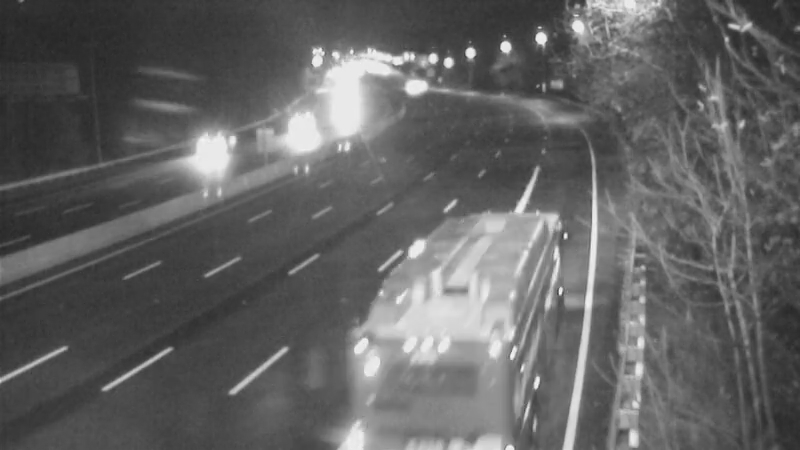vehicle: (376, 301, 486, 411), (184, 123, 234, 173), (282, 106, 332, 156)
